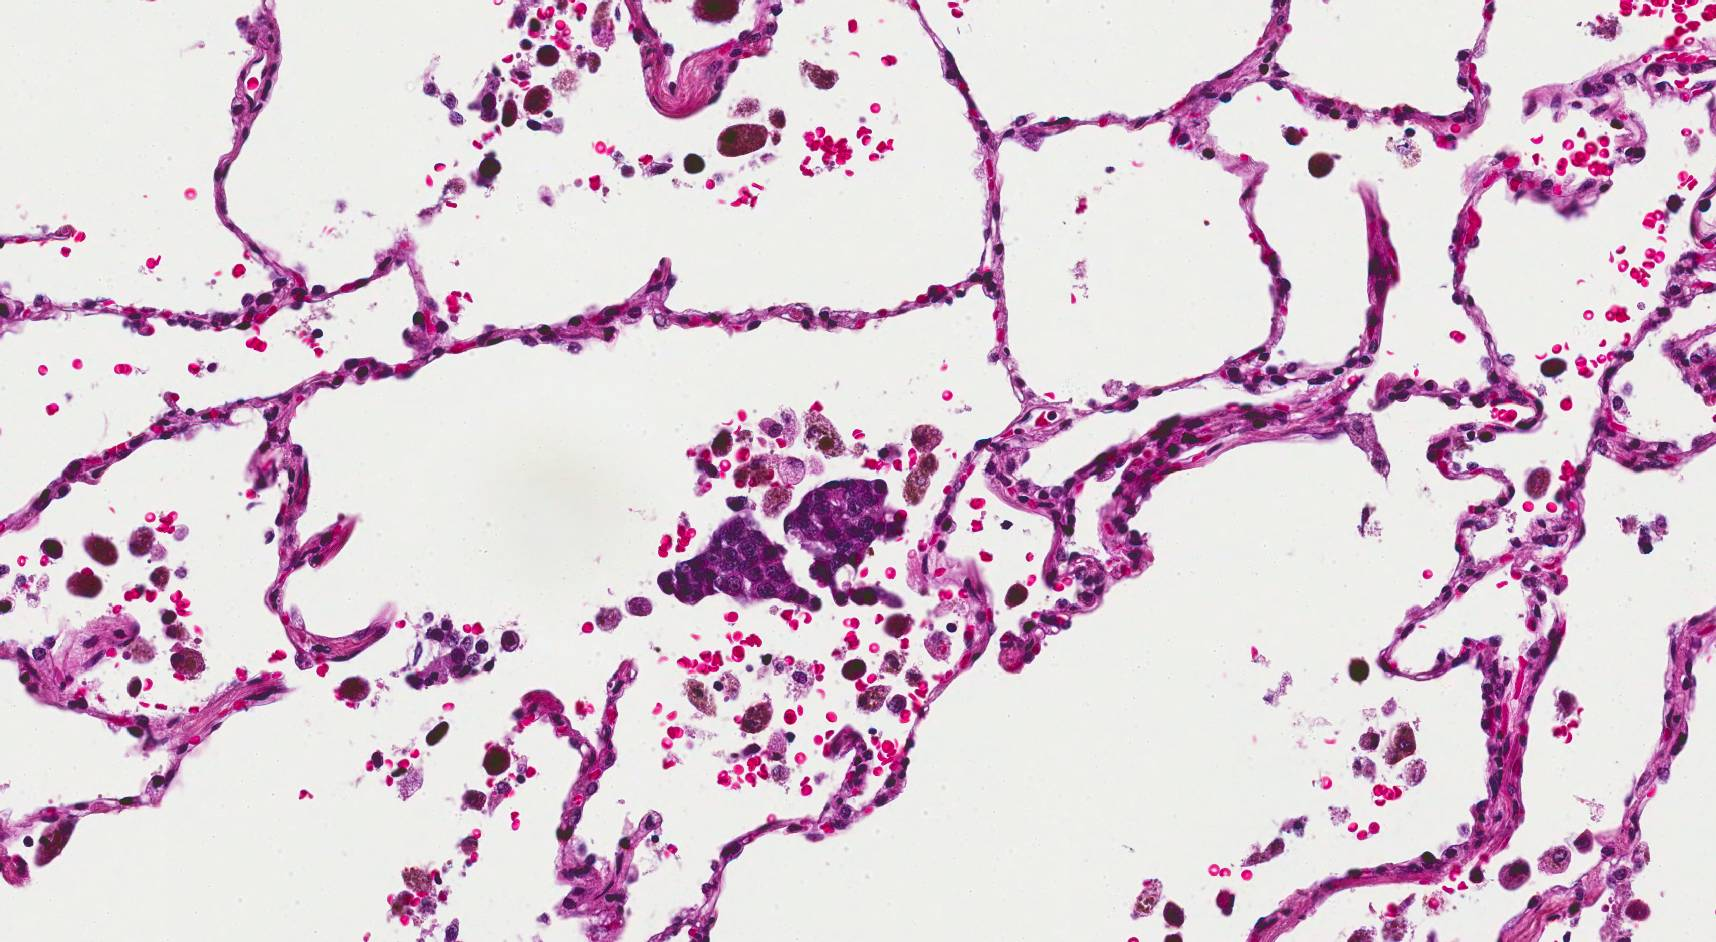stas: (779, 476, 910, 611), (658, 517, 825, 614)
